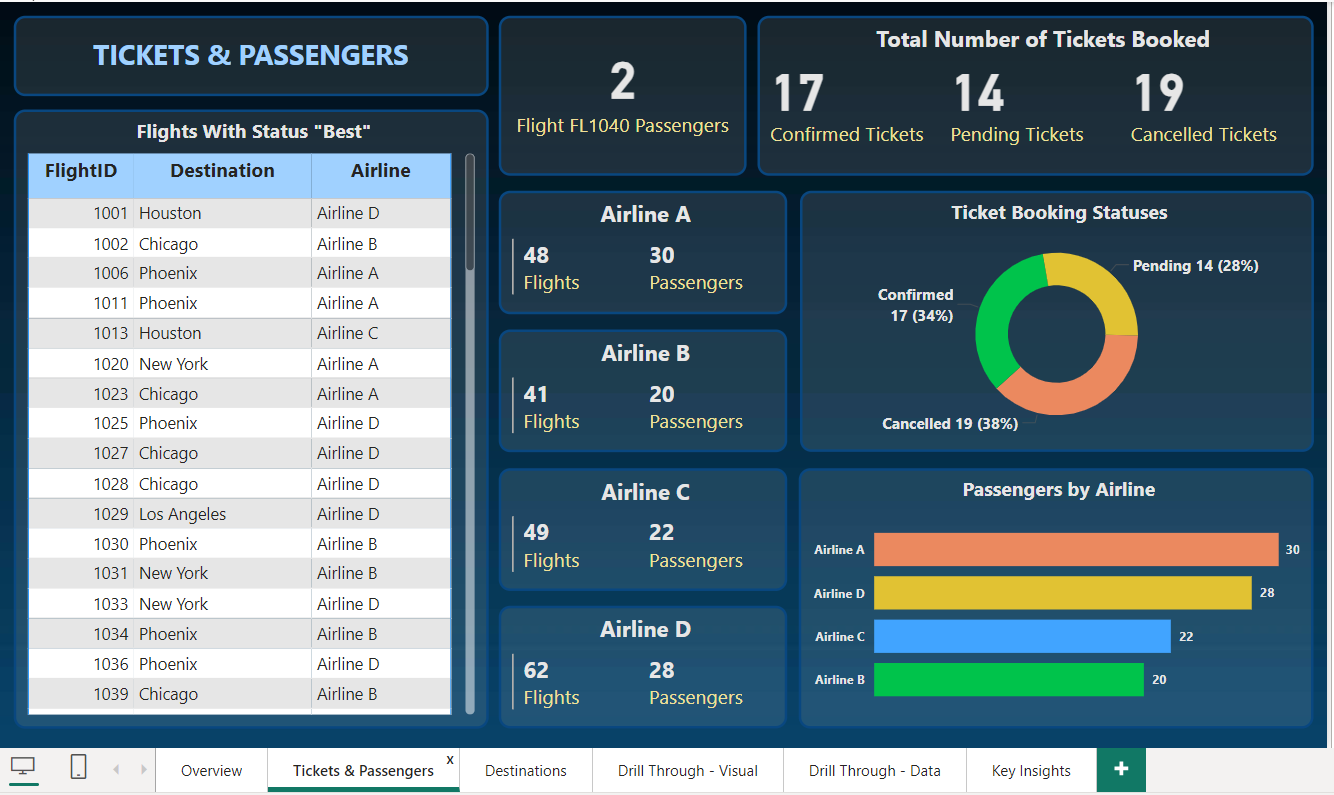

The page's visual inventory and layout, read from the dashboard file:
{"tool":"powerbi","page":{"name":"Tickets & Passengers","canvas":[1280,720],"ordinal":1},"visuals":[{"type":"multiRowCard","title":"Airline A","fields":{"Values":["Measures (2).Flights_AirlineA","Measures (2).Passengers_AirlineA"]},"box":[481.4,182.2,278.7,119.4],"z":0},{"type":"barChart","title":"Passengers by Airline","fields":{"Y":["CountNonNull(passenger_information.PassengerID)"],"Category":["flight_information.Airline"]},"box":[771.4,450,497.1,251.4],"z":1000},{"type":"multiRowCard","title":"Total Number of Tickets Booked","fields":{"Values":["Measures (2).Total Confirmed Tickets","Measures (2).Pending Tickets","Measures (2).Cancelled Tickets"]},"box":[731.5,13,536.7,154.4],"z":2000},{"type":"card","fields":{"Values":["Measures (2).FL1040_Total_Passengers"]},"box":[481.9,13,239.5,154.4],"z":3000},{"type":"tableEx","title":"Flights With Status \"Best\"","fields":{"Values":["flight_information.FlightID","flight_information.Destination","flight_information.Airline"]},"box":[13,103.9,458.8,597.3],"z":4000},{"type":"donutChart","title":"Ticket Booking Statuses","fields":{"Category":["ticket_information.BookingStatus"],"Y":["CountNonNull(ticket_information.TicketID)"]},"box":[772.1,182.2,495.8,252.1],"z":5000},{"type":"multiRowCard","title":"Airline B","fields":{"Values":["Measures (2).Flights_AirlineB","Measures (2).Passengers_AirlineB"]},"box":[481.4,316.1,278.7,118.2],"z":6000},{"type":"multiRowCard","title":"Airline C","fields":{"Values":["Measures (2).Flights_AirlineC","Measures (2).Passengers_AirlineC"]},"box":[481.4,450,278.6,118.6],"z":7000},{"type":"multiRowCard","title":"Airline D","fields":{"Values":["Measures (2).Flights_AirlineD","Measures (2).Passengers_AirlineD"]},"box":[481.9,582.9,278.5,118.3],"z":8000},{"type":"textbox","box":[13,13,458.8,77.9],"z":9000}]}

Visuals, with their boxes on the page's 1280x720 design canvas (x1, y1, x2, y2). These are canvas units, not pixel positions in the 1334x795 screenshot, which may show the page scaled, cropped or inside an application window:
"Airline A" multiRowCard: (481,182,760,302)
"Passengers by Airline" barChart: (771,450,1268,701)
"Total Number of Tickets Booked" multiRowCard: (732,13,1268,167)
card - Measures (2).FL1040_Total_Passengers: (482,13,721,167)
"Flights With Status "Best"" tableEx: (13,104,472,701)
"Ticket Booking Statuses" donutChart: (772,182,1268,434)
"Airline B" multiRowCard: (481,316,760,434)
"Airline C" multiRowCard: (481,450,760,569)
"Airline D" multiRowCard: (482,583,760,701)
textbox: (13,13,472,91)
